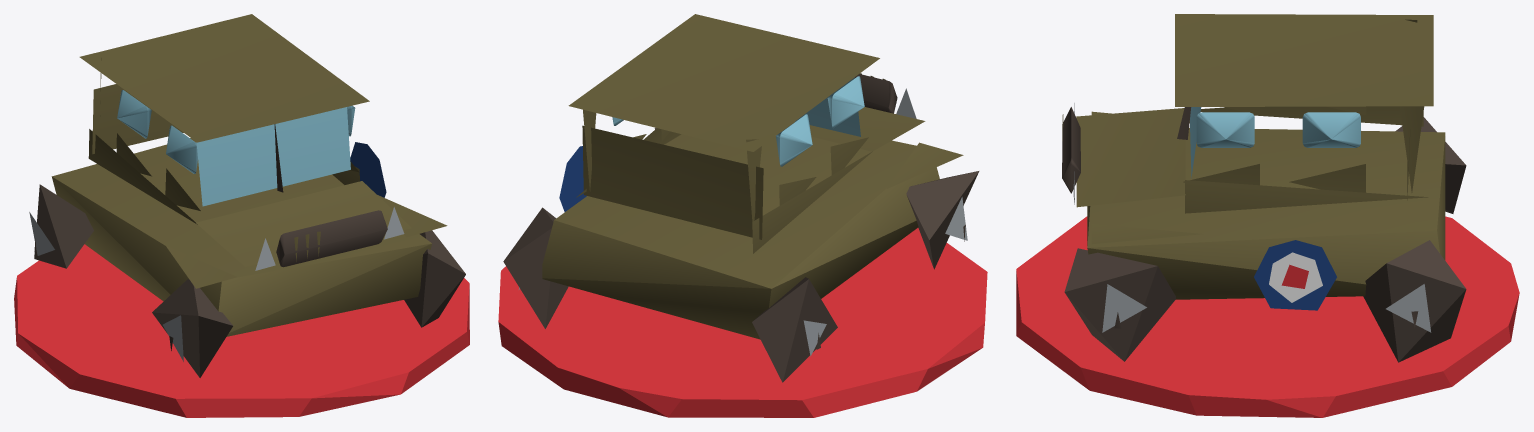
File: united_kingdom_militia_lod1.glb
3 renders of one model, left to right at view 1: azimuth 30°, elevation 25°; view 2: azimuth 150°, elevation 25°; view 3: azimuth 270°, elevation 25°, orthographic. The views are drawn at different scales.
Visible parts, largest first — view 1: body_hull, base_pedestal; view 2: body_hull, base_pedestal; view 3: body_hull, base_pedestal.
Boxes of the visible parts, x1,y1,x2,y2 form: body_hull: [29, 14, 465, 377]; base_pedestal: [14, 244, 469, 417]; body_hull: [503, 14, 979, 382]; base_pedestal: [498, 228, 987, 417]; body_hull: [1062, 14, 1466, 362]; base_pedestal: [1016, 216, 1519, 417].
Size of the model in its own units: 0.7751 by 0.4314 by 0.7751.
